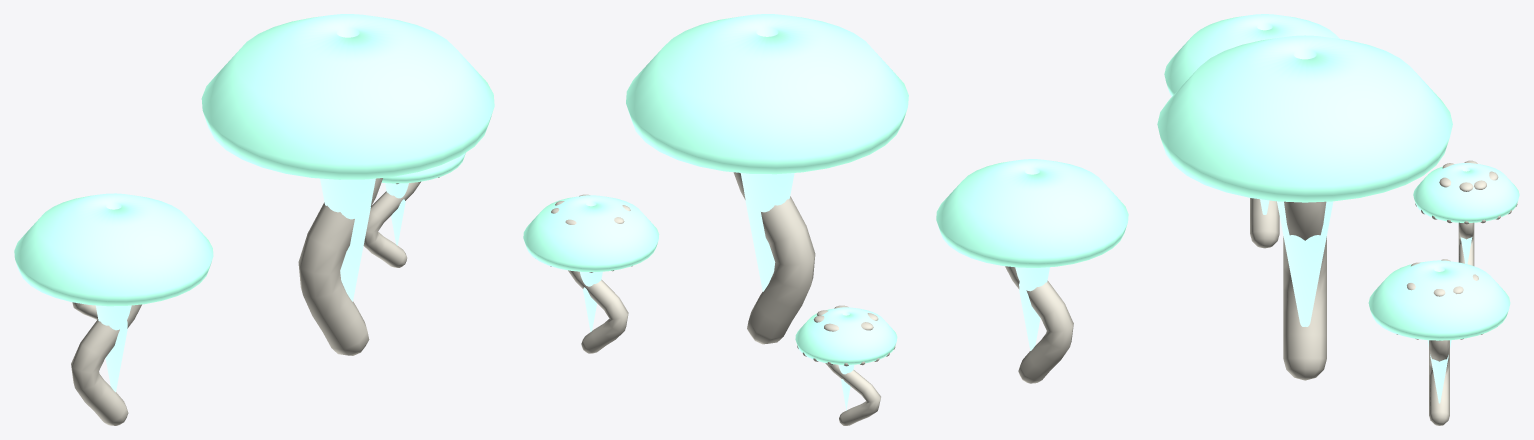
Rendered from mushroom.glb.
The picture shows the model from 3 angles, left to right: view 1: azimuth 30°, elevation 25°; view 2: azimuth 150°, elevation 25°; view 3: azimuth 270°, elevation 25°; orthographic projection. The views are drawn at different scales.
Visible parts, largest first — view 1: Convex_cap.001, Convex_cap, Curved_stem.001, Curved_stem, Curved_stem.002, Convex_cap.002; view 2: Convex_cap.001, Convex_cap, Convex_cap.002, Curved_stem.001, Convex_cap.003, Curved_stem, Curved_stem.002, Curved_stem.003; view 3: Convex_cap.001, Convex_cap.002, Curved_stem.001, Convex_cap.003, Convex_cap, Curved_stem.002, Curved_stem, Curved_stem.003.
Boxes of the visible parts, box(x1,y1,x2,y2) form: Convex_cap.001: box(201, 14, 494, 301); Convex_cap: box(14, 193, 213, 392); Curved_stem.001: box(298, 178, 382, 355); Curved_stem: box(71, 304, 141, 425); Curved_stem.002: box(363, 182, 420, 267); Convex_cap.002: box(381, 153, 465, 245); Convex_cap.001: box(626, 14, 908, 291); Convex_cap: box(936, 159, 1128, 350); Convex_cap.002: box(523, 195, 659, 331); Curved_stem.001: box(733, 172, 815, 344); Convex_cap.003: box(795, 307, 897, 410); Curved_stem: box(1005, 266, 1073, 383); Curved_stem.002: box(568, 270, 628, 353); Curved_stem.003: box(825, 363, 880, 425); Convex_cap.001: box(1157, 35, 1452, 326); Convex_cap.002: box(1368, 260, 1510, 403); Curved_stem.001: box(1283, 201, 1326, 380); Convex_cap.003: box(1413, 163, 1519, 264); Convex_cap: box(1164, 14, 1339, 214); Curved_stem.002: box(1429, 340, 1449, 425); Curved_stem: box(1250, 198, 1279, 248); Curved_stem.003: box(1458, 222, 1474, 265).
Size of the model in its own units: 0.4476 by 0.2662 by 0.2696.
